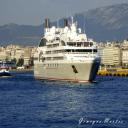cruises: (33, 15, 103, 85)
